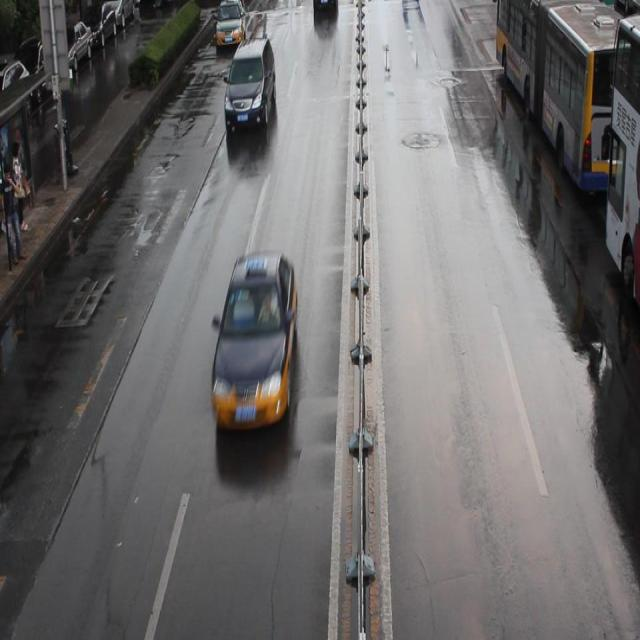car: (210, 252, 296, 432), (214, 1, 246, 49), (312, 1, 337, 17)
truck: (223, 36, 276, 132)
van: (494, 1, 640, 190), (604, 12, 640, 304)
